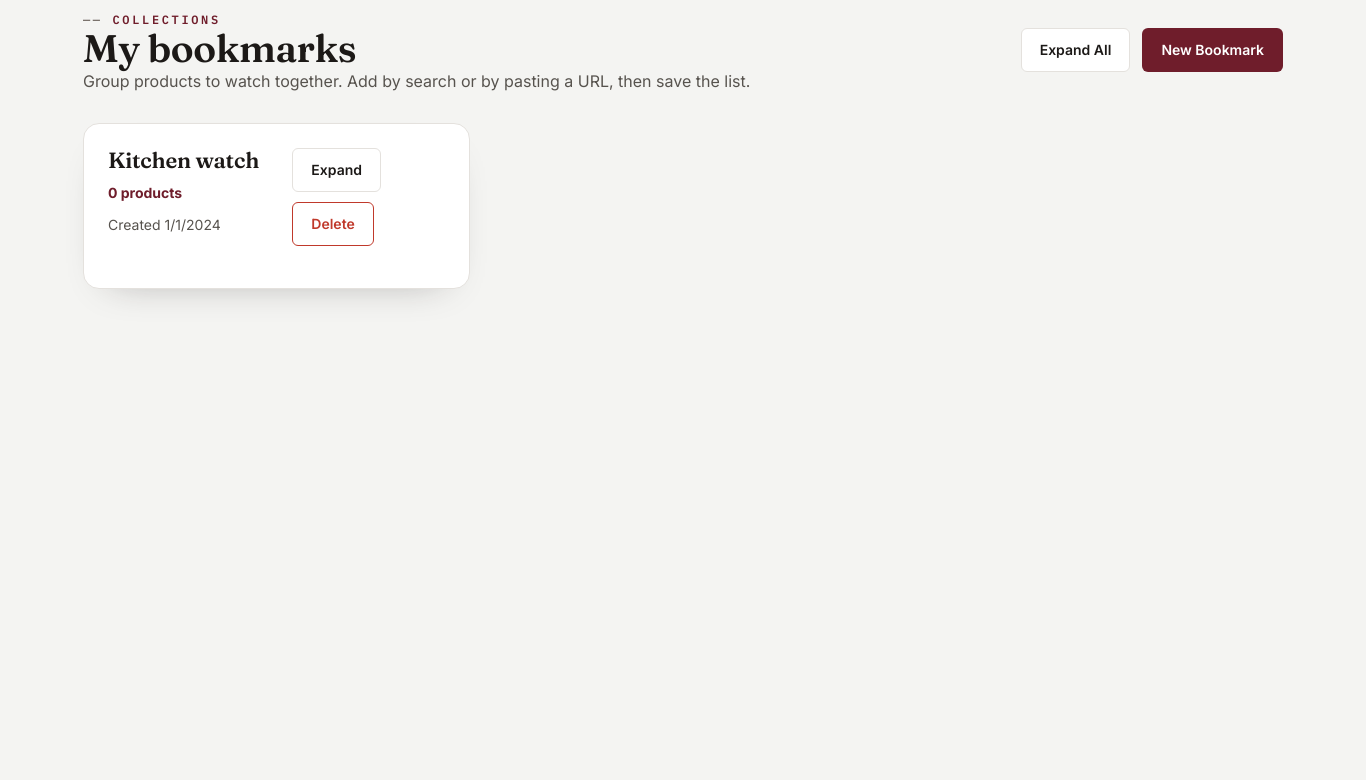
Scenario: Bookmarks page › creates a bookmark from the header form
Click the button "New Bookmark". click: (1213, 50)
box: [1142,28,1283,72]
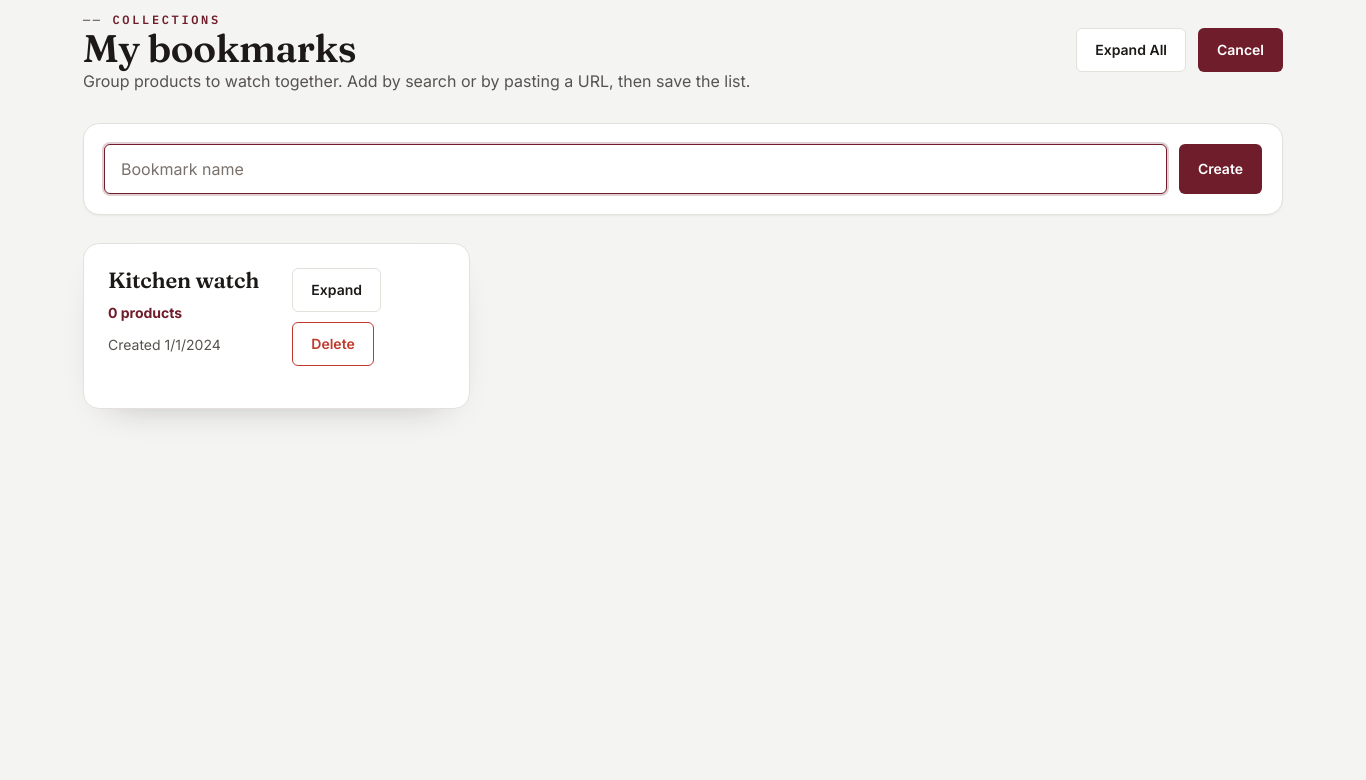
Type "Monitors" into the field with placeholder "Bookmark name". click: (635, 169)
box: [104,144,1167,194]
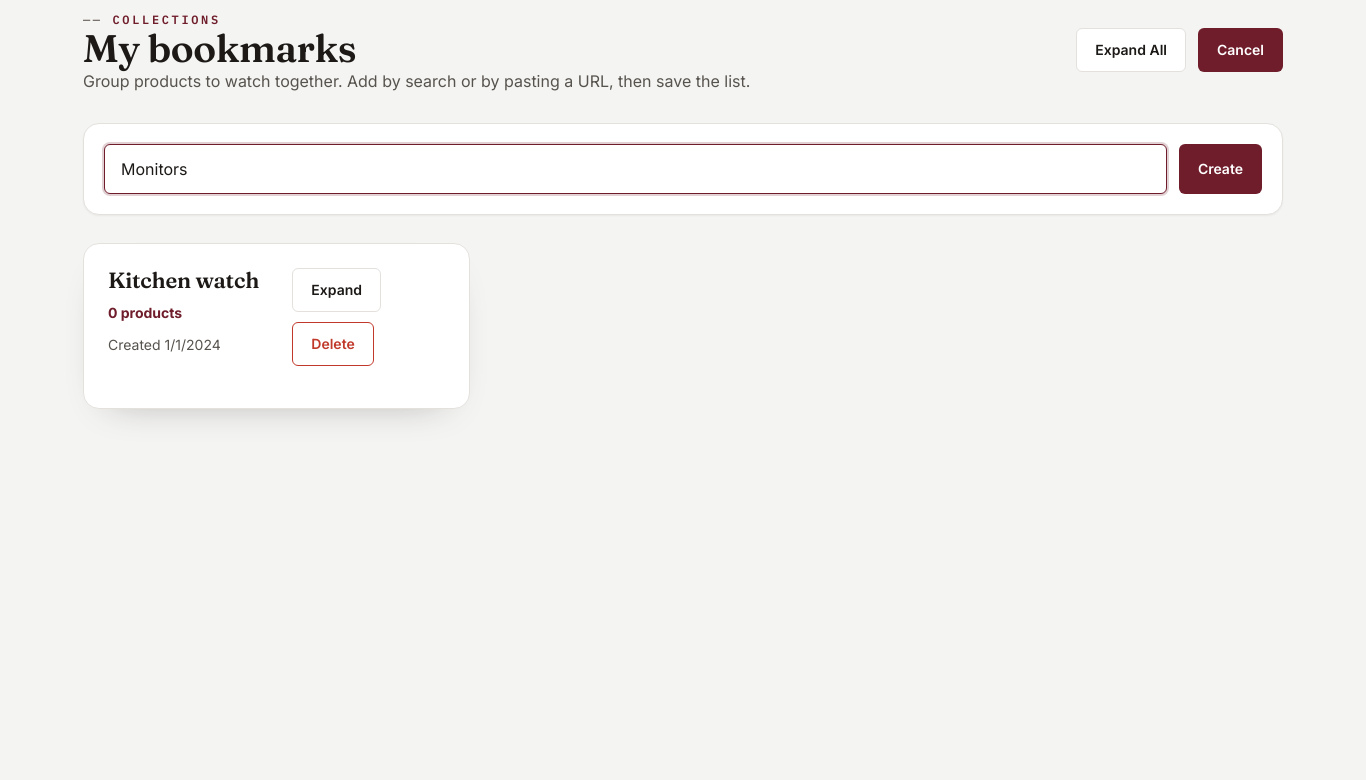
Click the button "Create". click: (1220, 169)
box: [1179,144,1262,194]
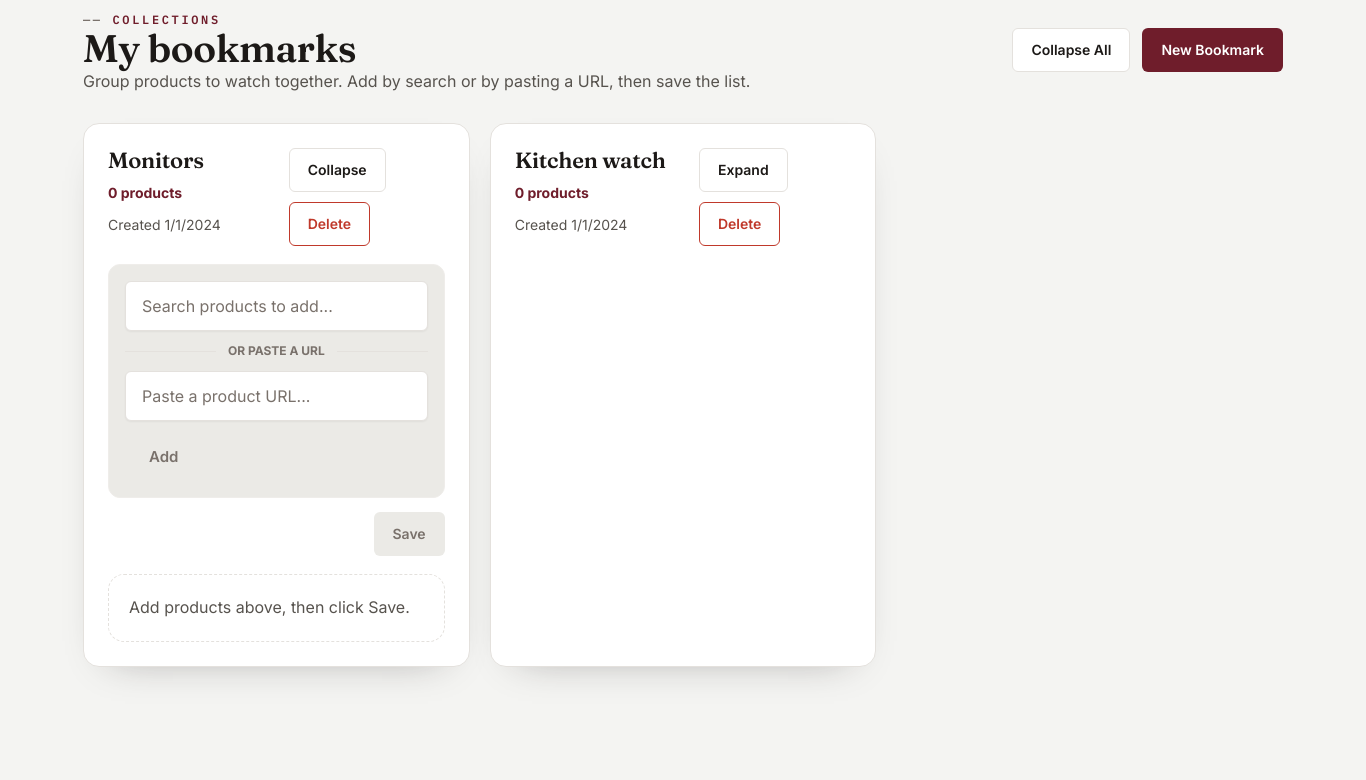
Now the heading "Monitors" is shown, box [108,146,204,174]
